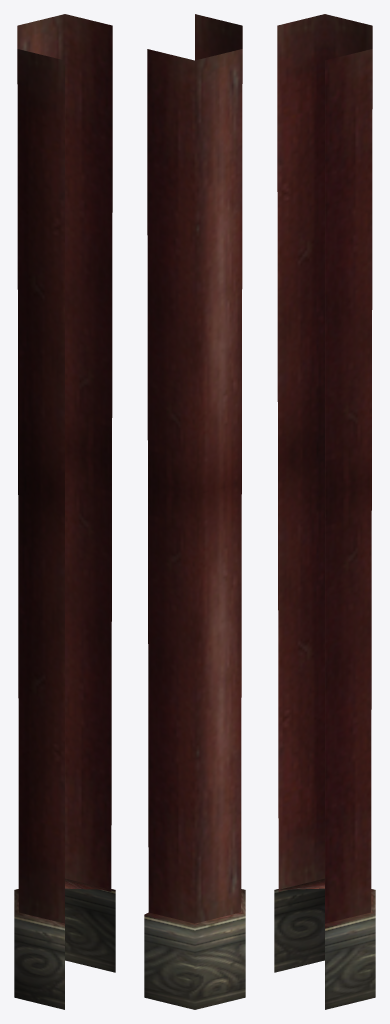
File: fb_cangjingge_zhuzi01.FBX
3 renders of one model, left to right at view 1: azimuth 30°, elevation 25°; view 2: azimuth 210°, elevation 25°; view 3: azimuth 270°, elevation 25°, orthographic.
Visible parts, largest first — view 1: fb_cangjingge_zhuzi01; view 2: fb_cangjingge_zhuzi01; view 3: fb_cangjingge_zhuzi01.
Part boxes in pixels (x1=…): fb_cangjingge_zhuzi01: x1=14, y1=14, x2=115, y2=1009; fb_cangjingge_zhuzi01: x1=144, y1=14, x2=245, y2=1009; fb_cangjingge_zhuzi01: x1=274, y1=14, x2=375, y2=1009.
Bounding box in the file's own units: 102 × 908 × 88.07.
